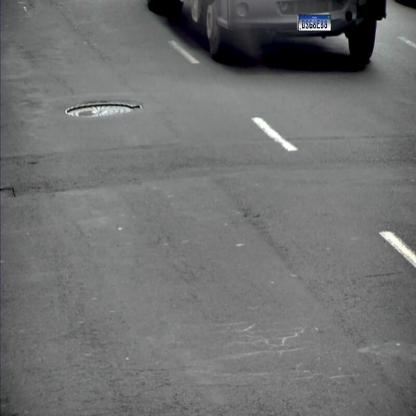PlacaM: (298, 15, 332, 31)
